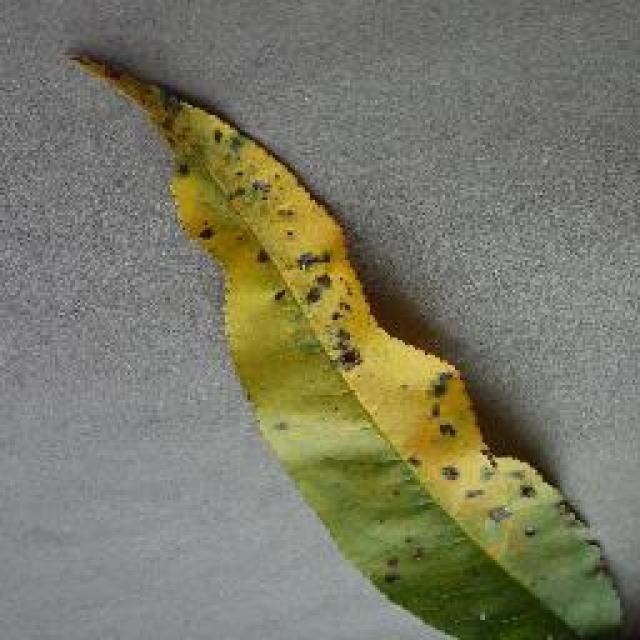Peach_Bacterial_Spot: (128, 61, 538, 512)
